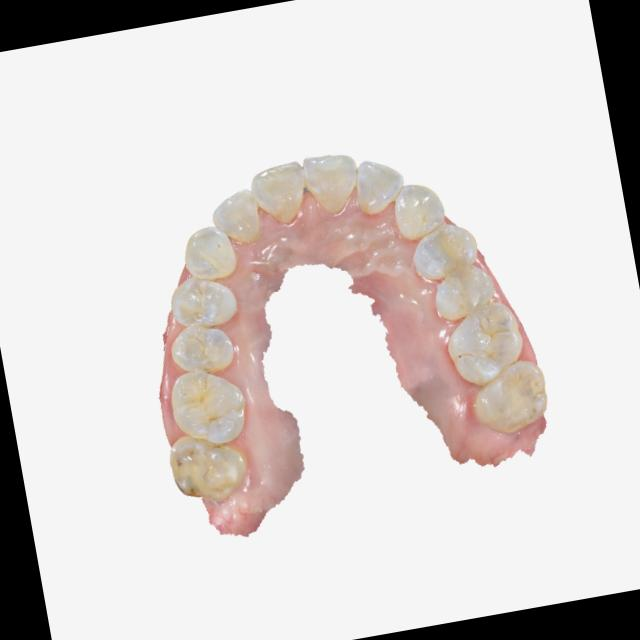tooth: (158, 350, 260, 460), (161, 419, 264, 518), (434, 300, 534, 391), (468, 351, 560, 443), (160, 266, 252, 344), (295, 141, 373, 229), (401, 213, 489, 291), (161, 309, 248, 384), (243, 150, 319, 234), (343, 147, 414, 233), (171, 215, 251, 291), (424, 259, 504, 329), (385, 170, 454, 249), (203, 183, 274, 254)
